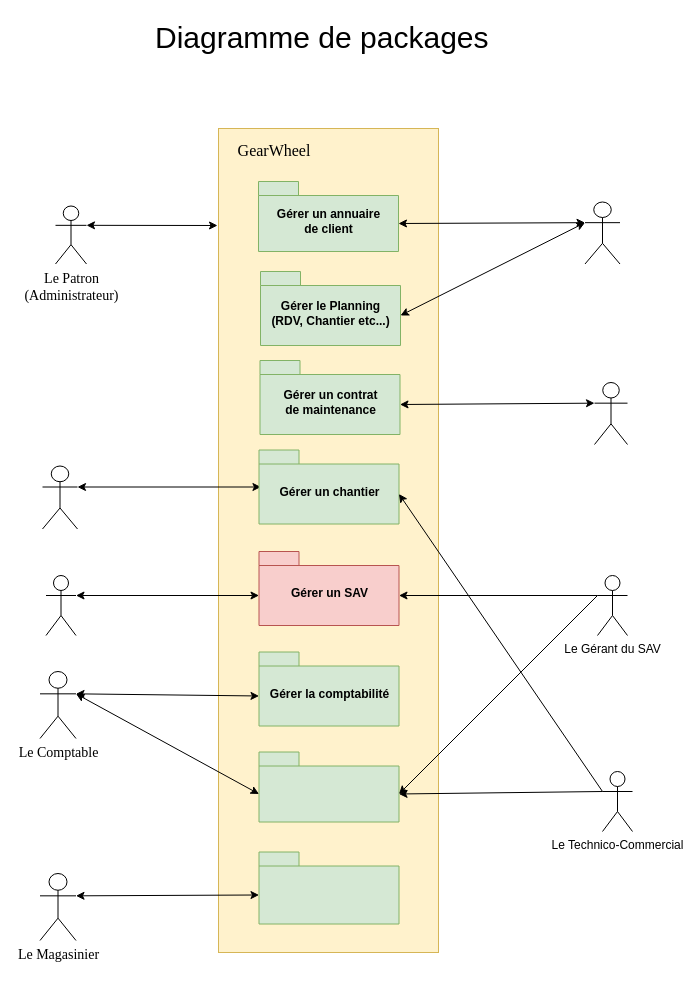
Some shapes in this 700 by 981 pixel diagram are drawn without their labels. Each missing label, with the centre of its shape:
Faire des devis: point 328,786
Gérer un Stock: point 328,887
L'Installateur: point 60,497
Le Dépanneur: point 60,605
Le Programme: point 611,413
Le Standardiste: point 602,232
